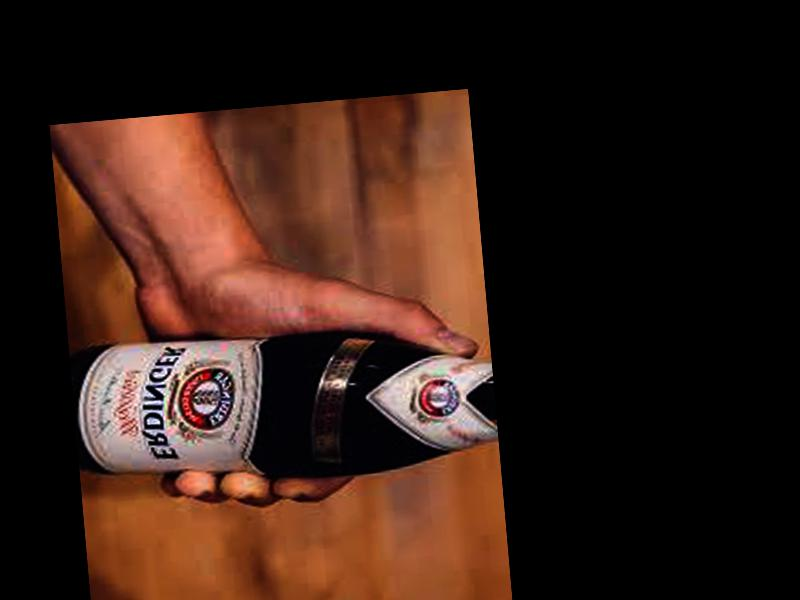Beer: (68, 310, 495, 498)
